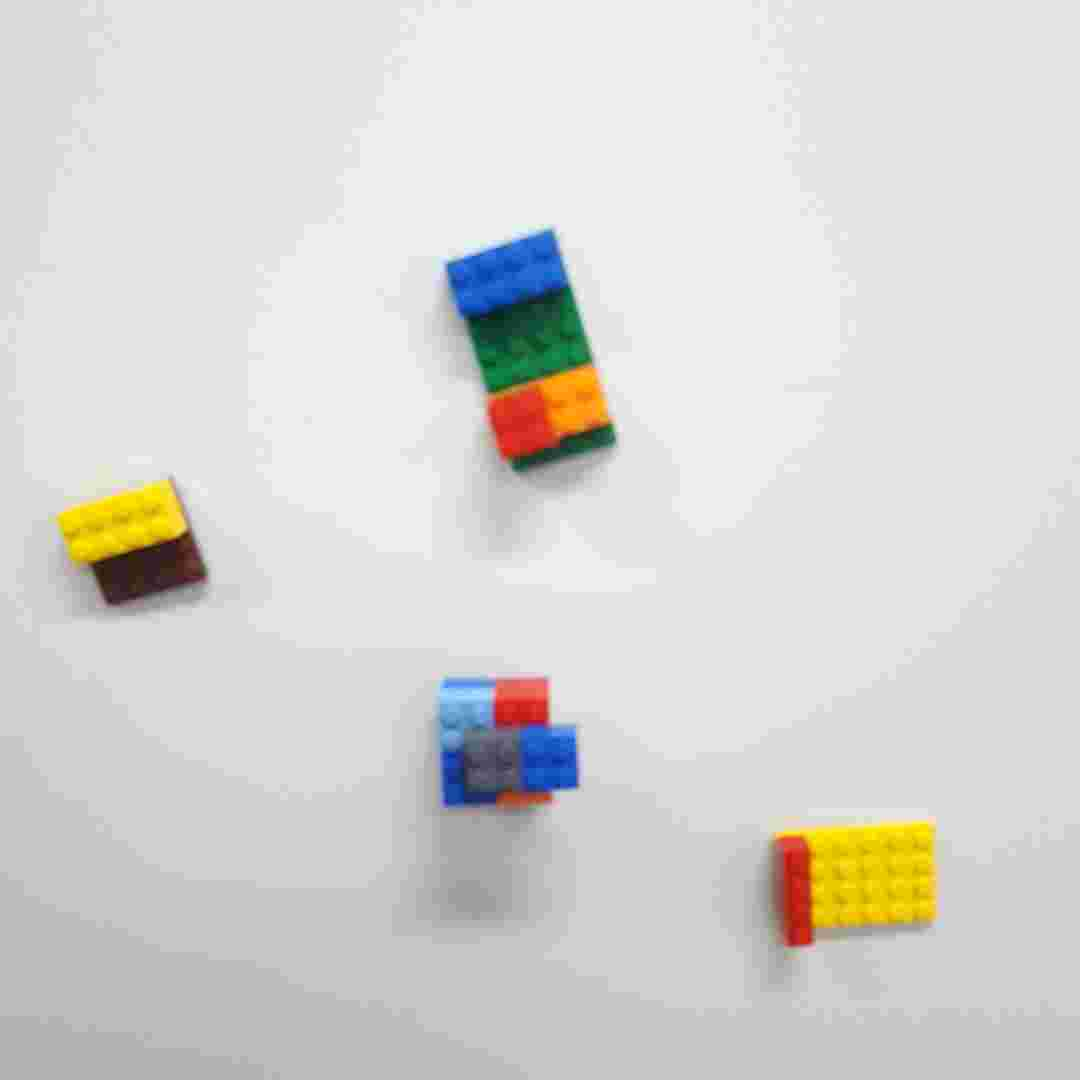LEGO: (443, 223, 626, 475), (765, 816, 946, 950), (50, 478, 217, 611), (441, 665, 582, 816)
